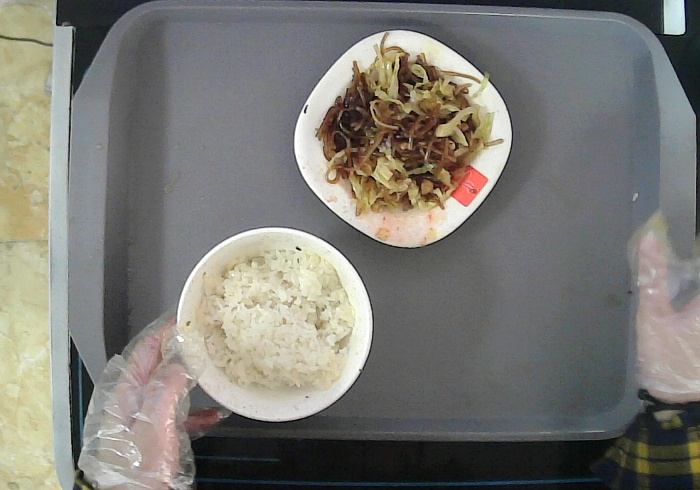SHKJ-Bai_Se_Si_Fang_Cai_Die: (290, 23, 516, 255)
SHKJ-Fan_Wan: (174, 224, 377, 428)
